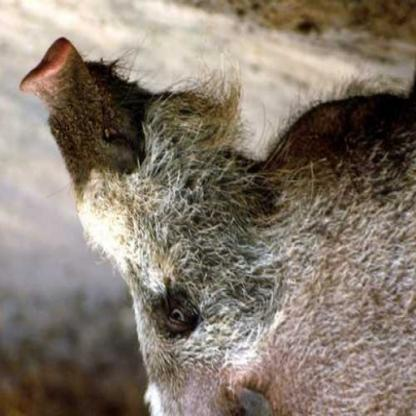boar: (17, 12, 415, 416)
